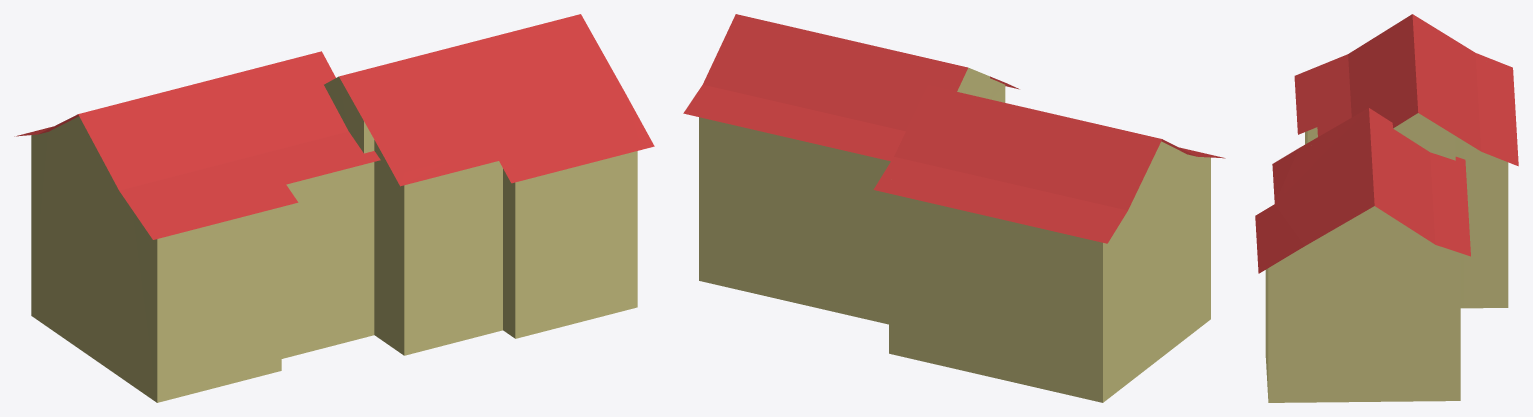
3 renders of one model, left to right at view 1: azimuth 30°, elevation 25°; view 2: azimuth 150°, elevation 25°; view 3: azimuth 270°, elevation 25°, orthographic. The views are drawn at different scales.
Size of the model in its own units: 22.76 by 13.05 by 10.94.
